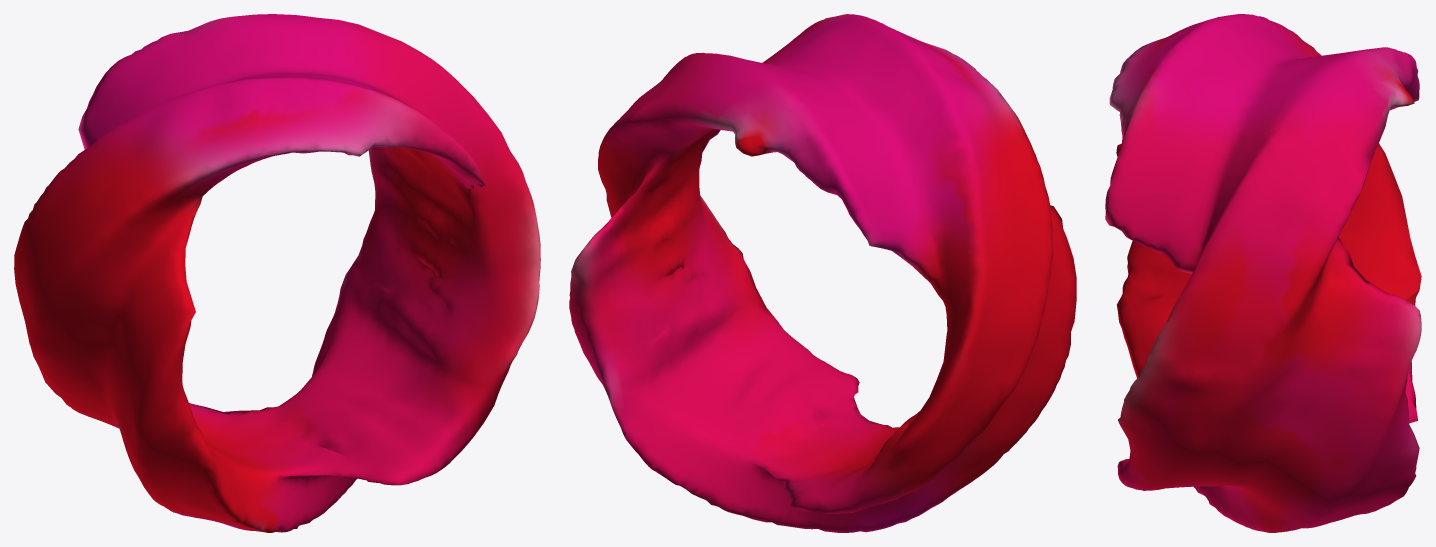
The model's file is aeon red.obj.
3 views of the same model, side by side, from view 1: azimuth 30°, elevation 25°; view 2: azimuth 150°, elevation 25°; view 3: azimuth 270°, elevation 25° (orthographic).
Parts seen in each view (by area): view 1: mmGroup0; view 2: mmGroup0; view 3: mmGroup0.
Part boxes in pixels (left/top/right/bottom): mmGroup0: left=14, top=14, right=540, bottom=532; mmGroup0: left=569, top=14, right=1076, bottom=532; mmGroup0: left=1105, top=14, right=1421, bottom=532.
Size of the model in its own units: 21.42 by 21.17 by 13.08.
